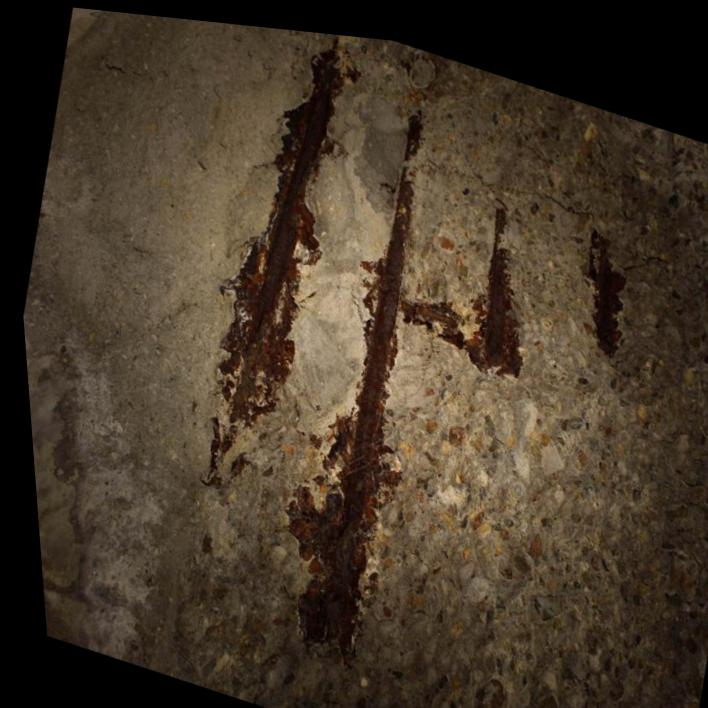damage: (152, 25, 647, 708)
